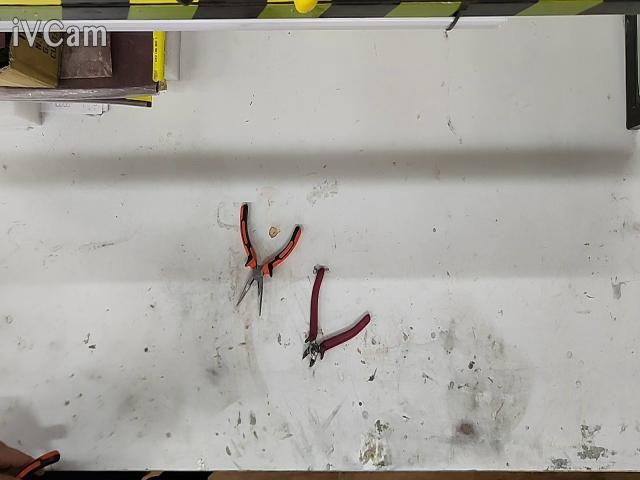Cutting pliers: (302, 268, 371, 367)
Needle-nose pliers: (236, 205, 301, 317)
